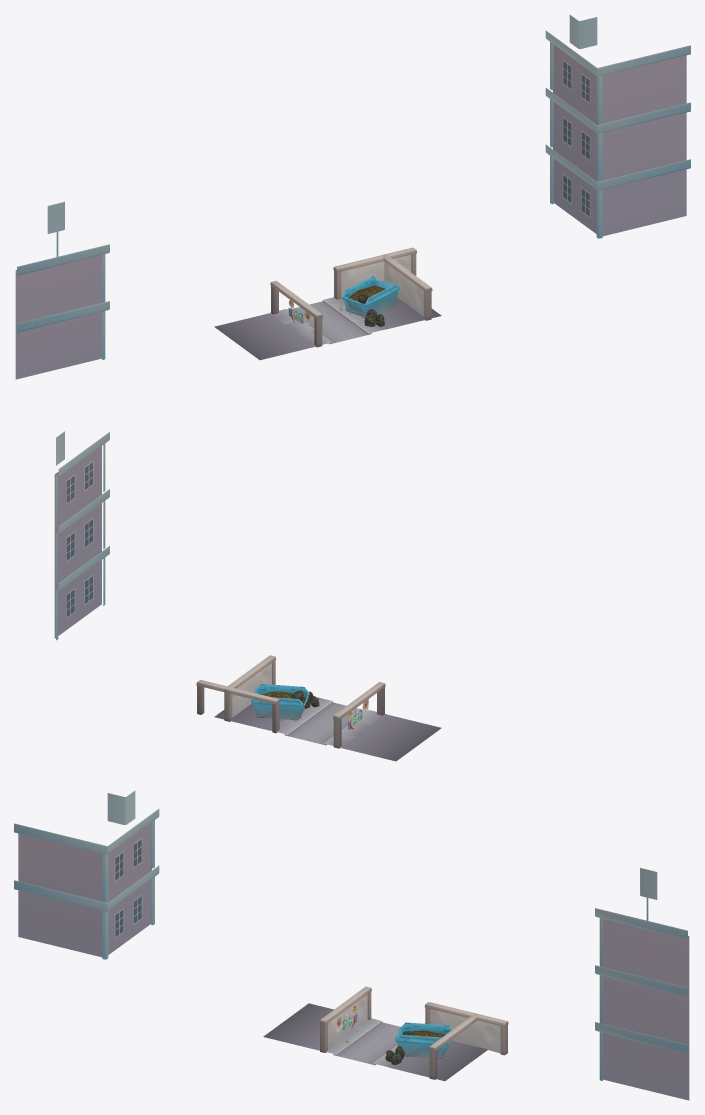
File: UrbanPlasterWalls03.prefab.glb
3 views of the same model, one above another, from view 1: azimuth 30°, elevation 25°; view 2: azimuth 150°, elevation 25°; view 3: azimuth 330°, elevation 25° (orthographic).
Parts seen in each view (by area): view 1: FarBackBuilding01, UrbanPlasterWalls03, PlasteredWall01 (2), PlasteredWall01, SkipBlue, PlasteredWall01 (1); view 2: FarBackBuilding01, UrbanPlasterWalls03, PlasteredWall01, SkipBlue, PlasteredWall01 (2), PlasteredWall01 (1); view 3: FarBackBuilding01, UrbanPlasterWalls03, PlasteredWall01 (2), PlasteredWall01 (1), SkipBlue, PlasteredWall01.
Part boxes in pixels (x1,y1,x2,y2): FarBackBuilding01: [15, 14, 690, 379]; UrbanPlasterWalls03: [214, 297, 441, 360]; PlasteredWall01 (2): [333, 247, 416, 299]; PlasteredWall01: [381, 254, 432, 320]; SkipBlue: [342, 276, 399, 318]; PlasteredWall01 (1): [270, 280, 322, 347]; FarBackBuilding01: [54, 431, 109, 640]; UrbanPlasterWalls03: [214, 697, 441, 761]; PlasteredWall01: [223, 655, 276, 721]; SkipBlue: [251, 684, 309, 720]; PlasteredWall01 (2): [196, 679, 280, 733]; PlasteredWall01 (1): [333, 682, 385, 748]; FarBackBuilding01: [14, 790, 689, 1100]; UrbanPlasterWalls03: [263, 1003, 487, 1081]; PlasteredWall01 (2): [424, 1002, 508, 1055]; PlasteredWall01 (1): [319, 986, 371, 1052]; SkipBlue: [395, 1022, 451, 1058]; PlasteredWall01: [428, 1013, 479, 1079].
Size of the model in its own units: 76.34 by 26.74 by 10.17.
Materials: 7 (6 with a texture image).
